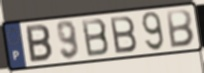9: (139, 10, 166, 52), (55, 19, 81, 62)
B: (165, 8, 196, 50), (80, 17, 111, 59), (108, 15, 139, 56), (24, 23, 54, 64)
